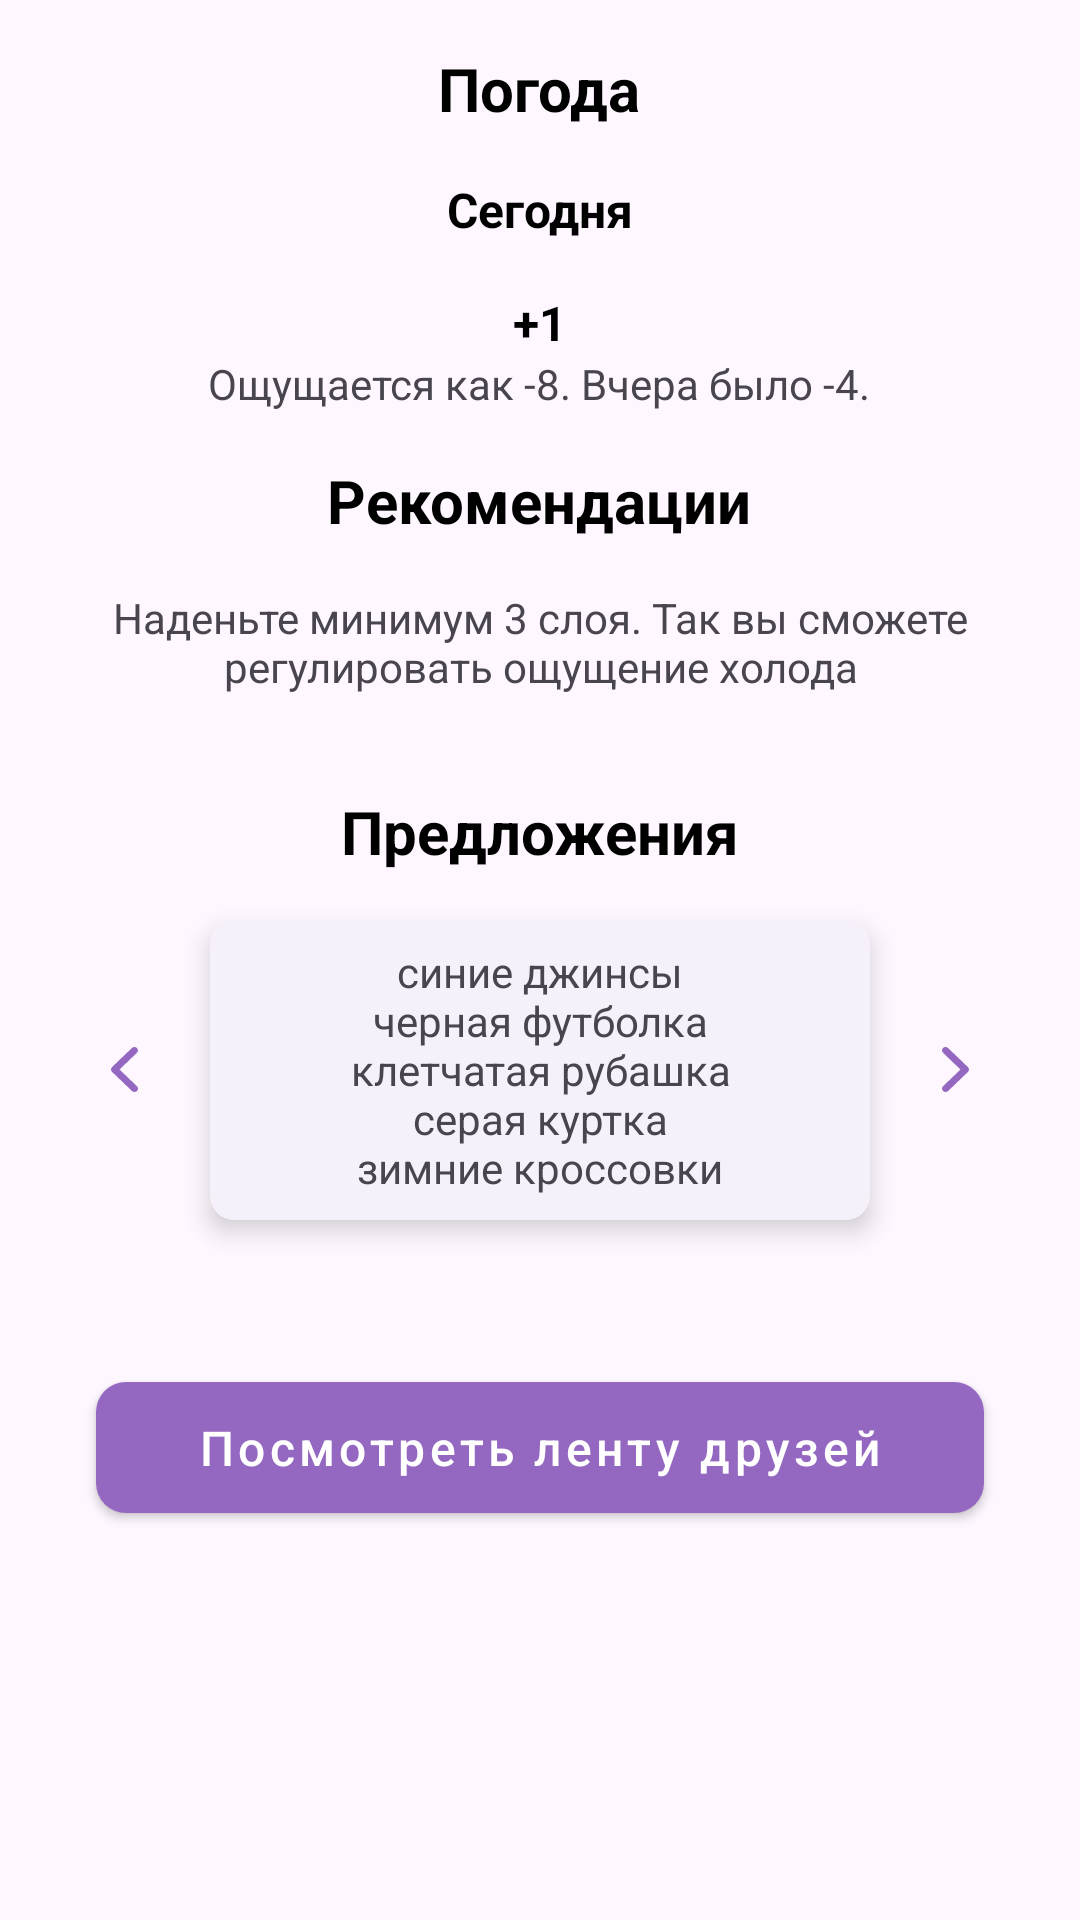

Icon bounding boxes for this 1080w x 1920h phone screenshot, format box(x1, y1, x2, y2):
arrow left: box(111, 1047, 138, 1092)
arrow right: box(942, 1047, 969, 1092)
